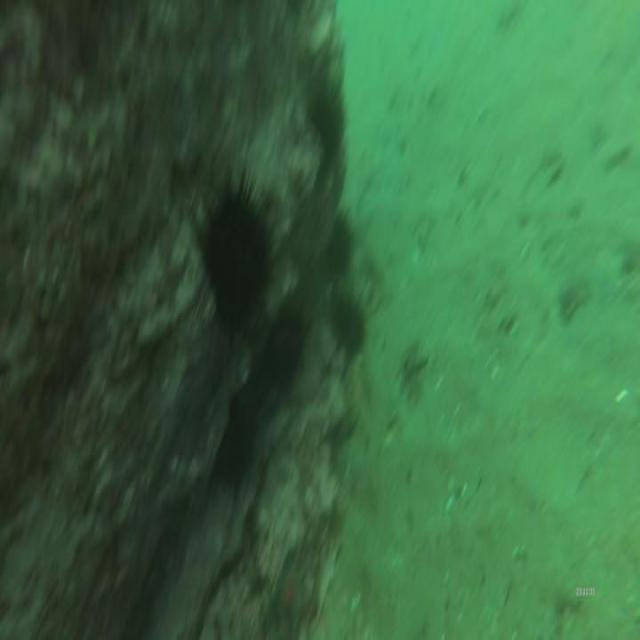echinus: (198, 182, 270, 336), (214, 392, 257, 490), (330, 280, 376, 370), (263, 300, 307, 386), (309, 66, 346, 150), (326, 210, 356, 277)
starfish: (271, 559, 312, 634)
